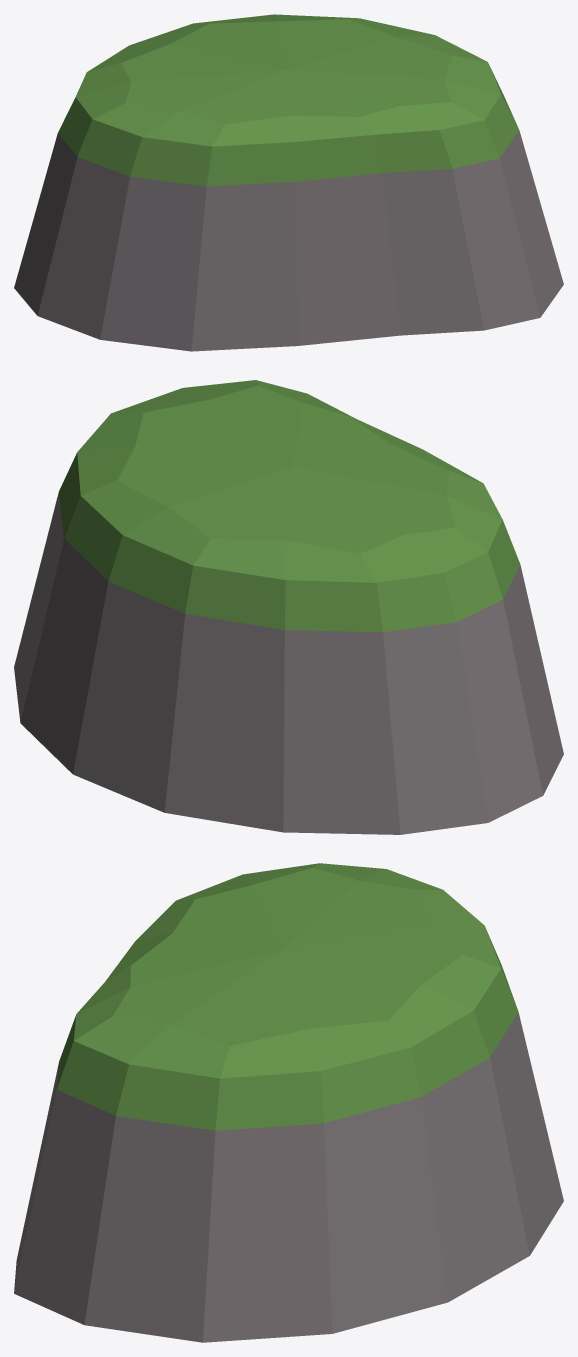
Rendered from Island_3.fbx.
The picture shows the model from 3 angles, top to bottom: view 1: azimuth 30°, elevation 25°; view 2: azimuth 150°, elevation 25°; view 3: azimuth 270°, elevation 25°; orthographic projection. The views are drawn at different scales.
Visible parts, largest first — view 1: Island_3; view 2: Island_3; view 3: Island_3.
Part boxes in pixels (left/top/right/bottom): Island_3: left=14, top=14, right=563, bottom=351; Island_3: left=14, top=380, right=563, bottom=834; Island_3: left=14, top=863, right=563, bottom=1342.
Bounding box in the file's own units: 10.39 × 4.45 × 8.73.
